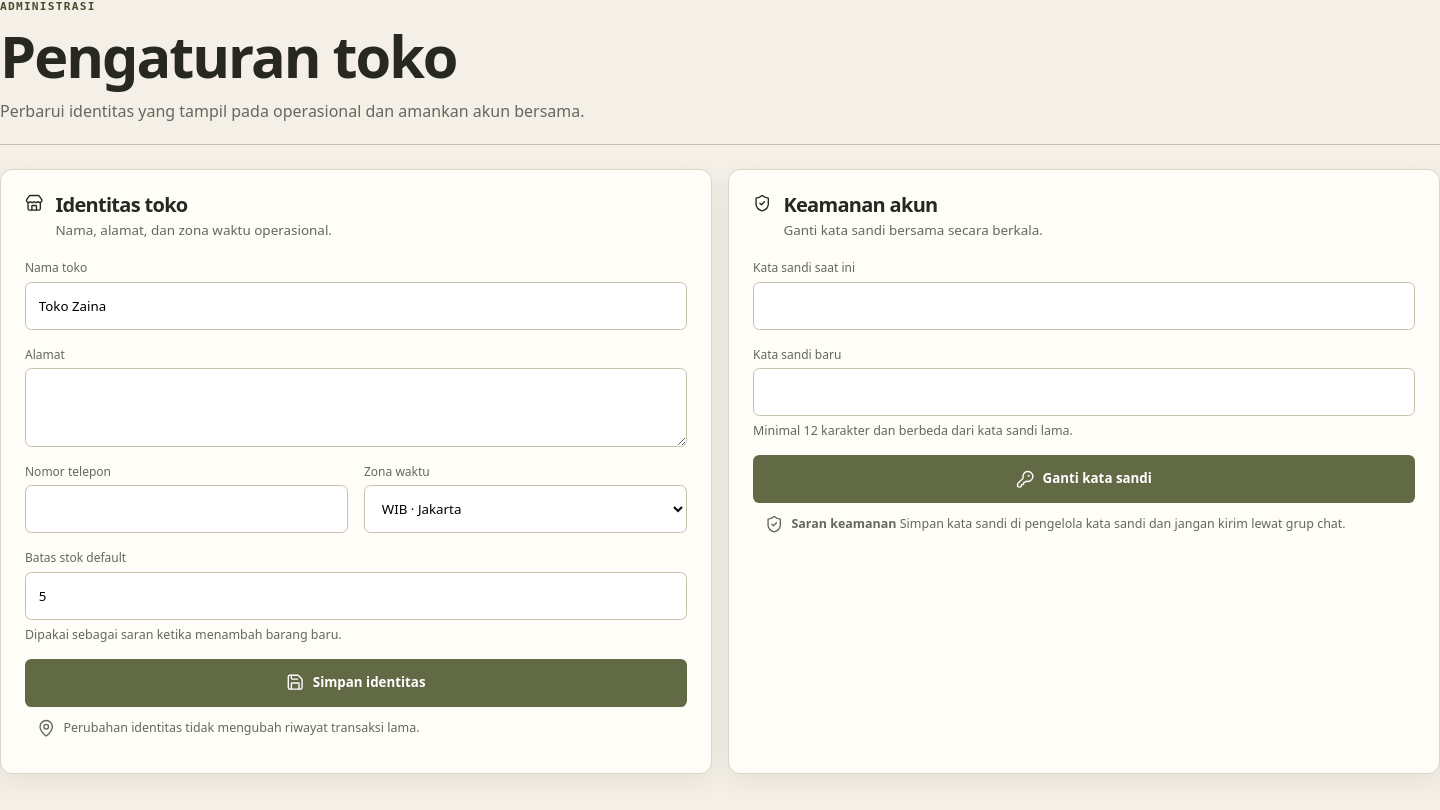
Scenario: SettingsPage › renders store field errors without sending invalid settings
Clear the field labelled "Nama toko" at (356, 306), box [25,282,687,330]
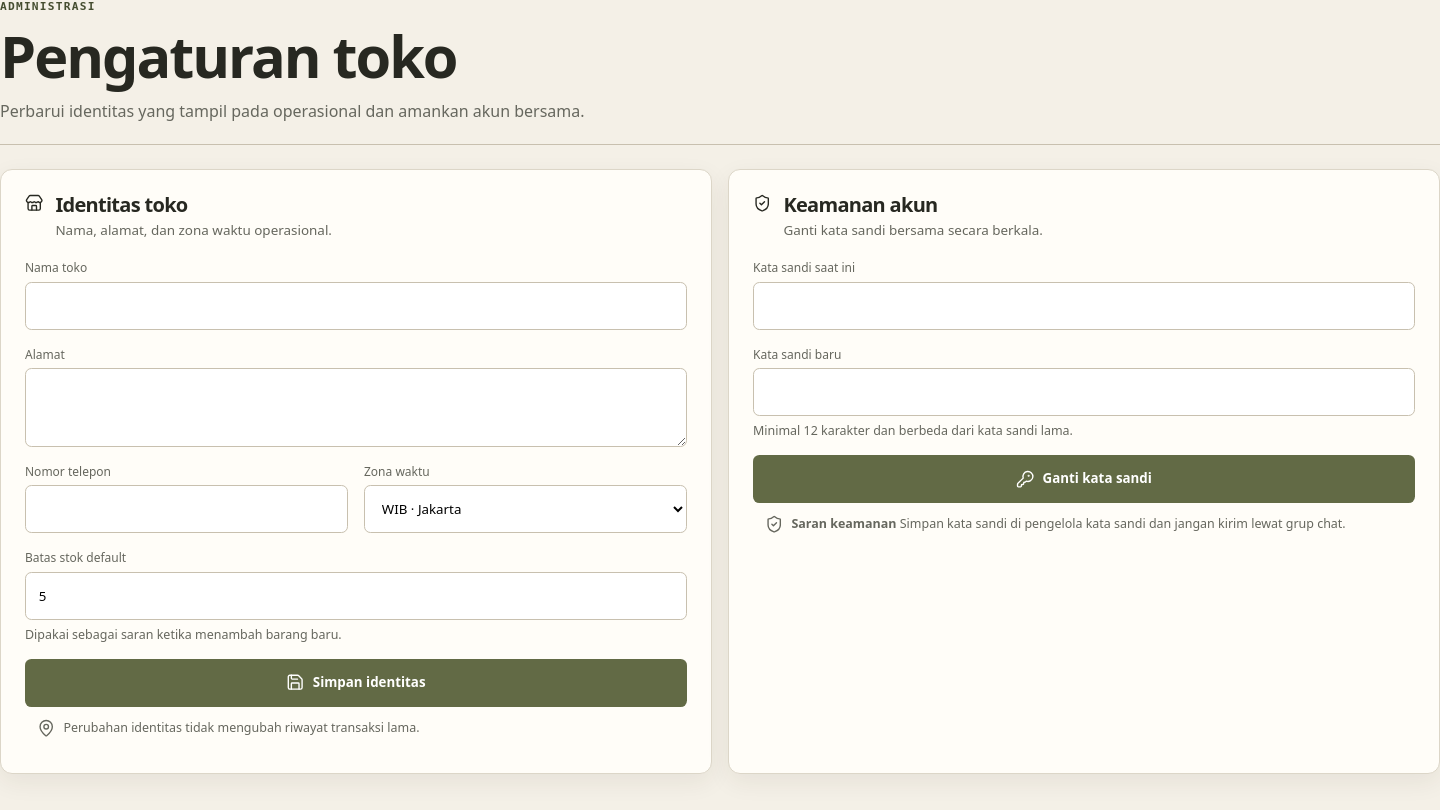
Click the button "Simpan identitas" at (356, 682), box [25,658,687,706]
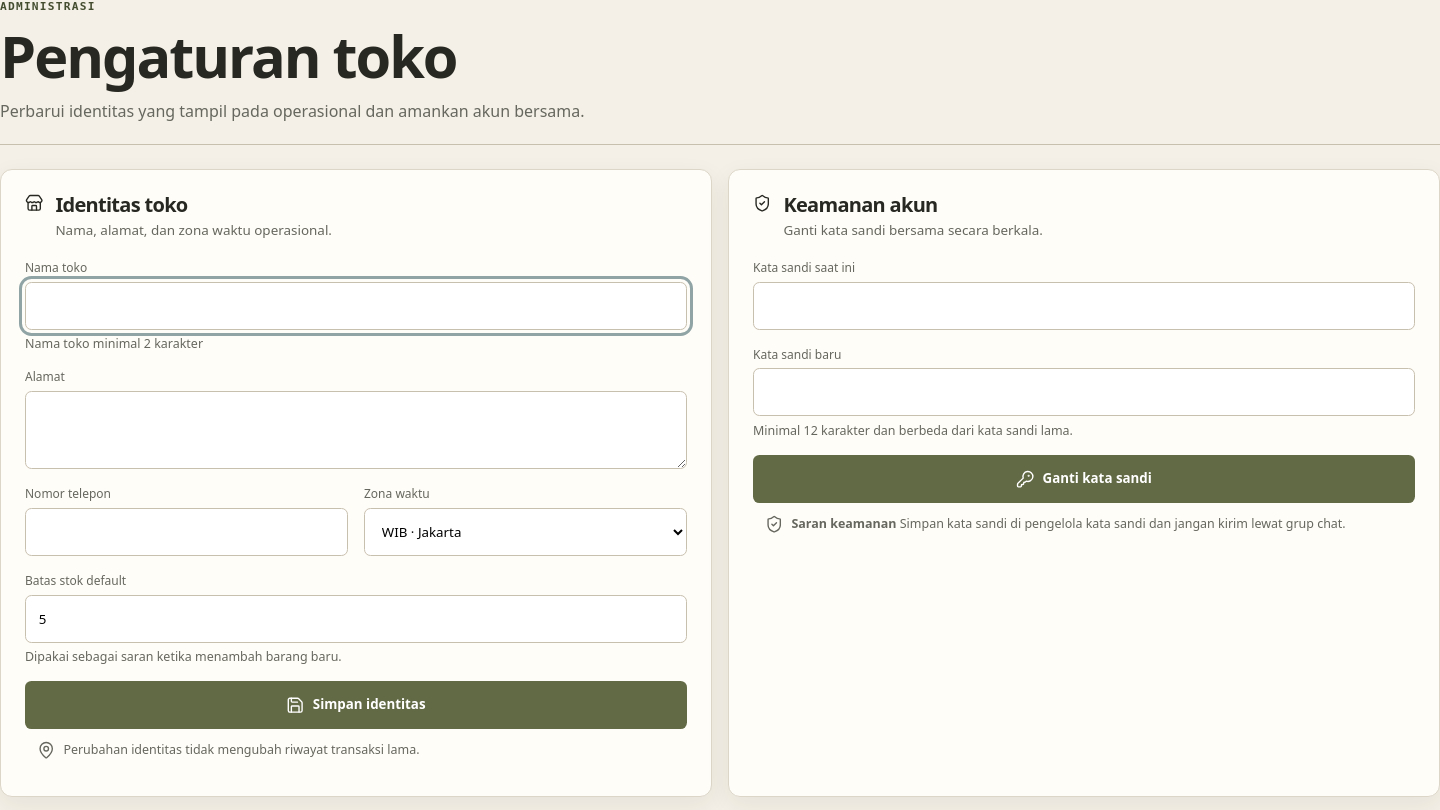
Expected: the text "Nama toko minimal 2 karakter" is shown, [25,335,203,352]
